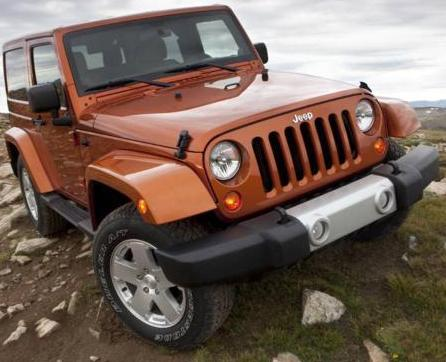front_view: (144, 89, 439, 283)
headlight: (201, 137, 257, 220)
side_glass: (2, 33, 75, 117)
